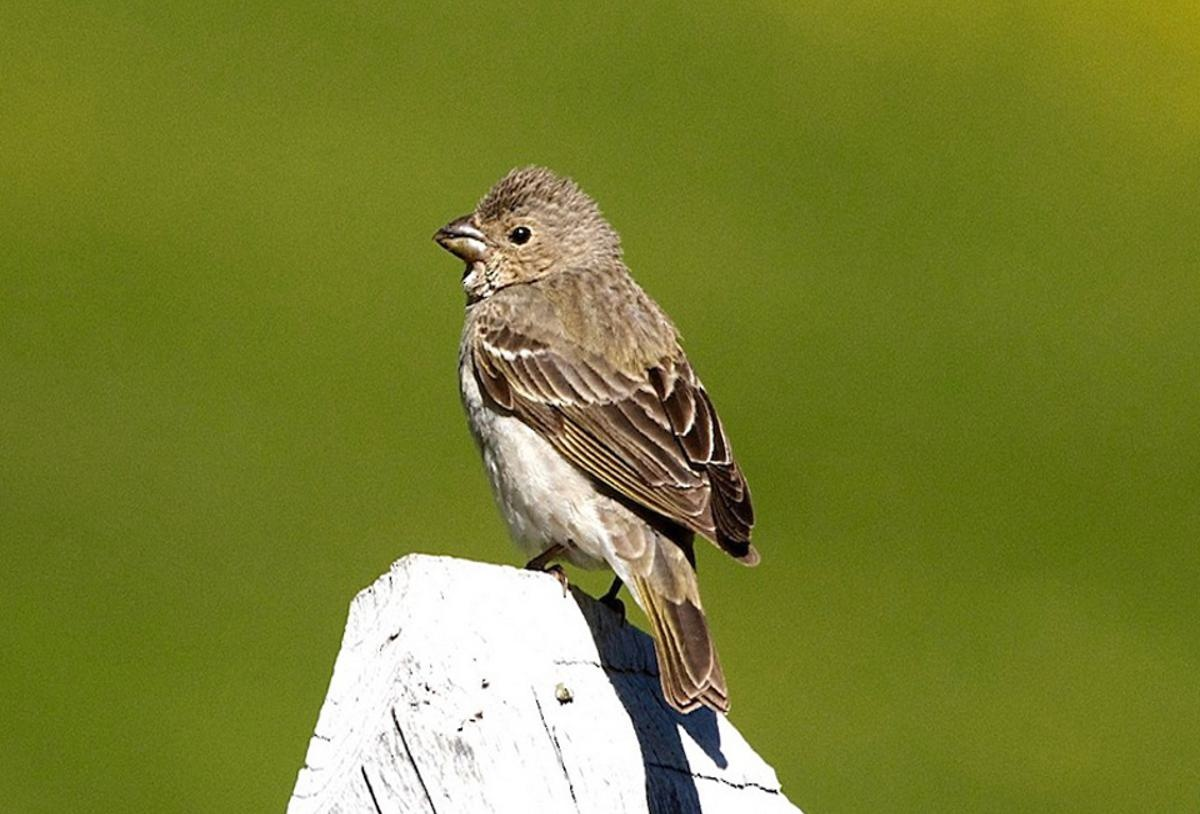rosefinch: (421, 184, 749, 677)
